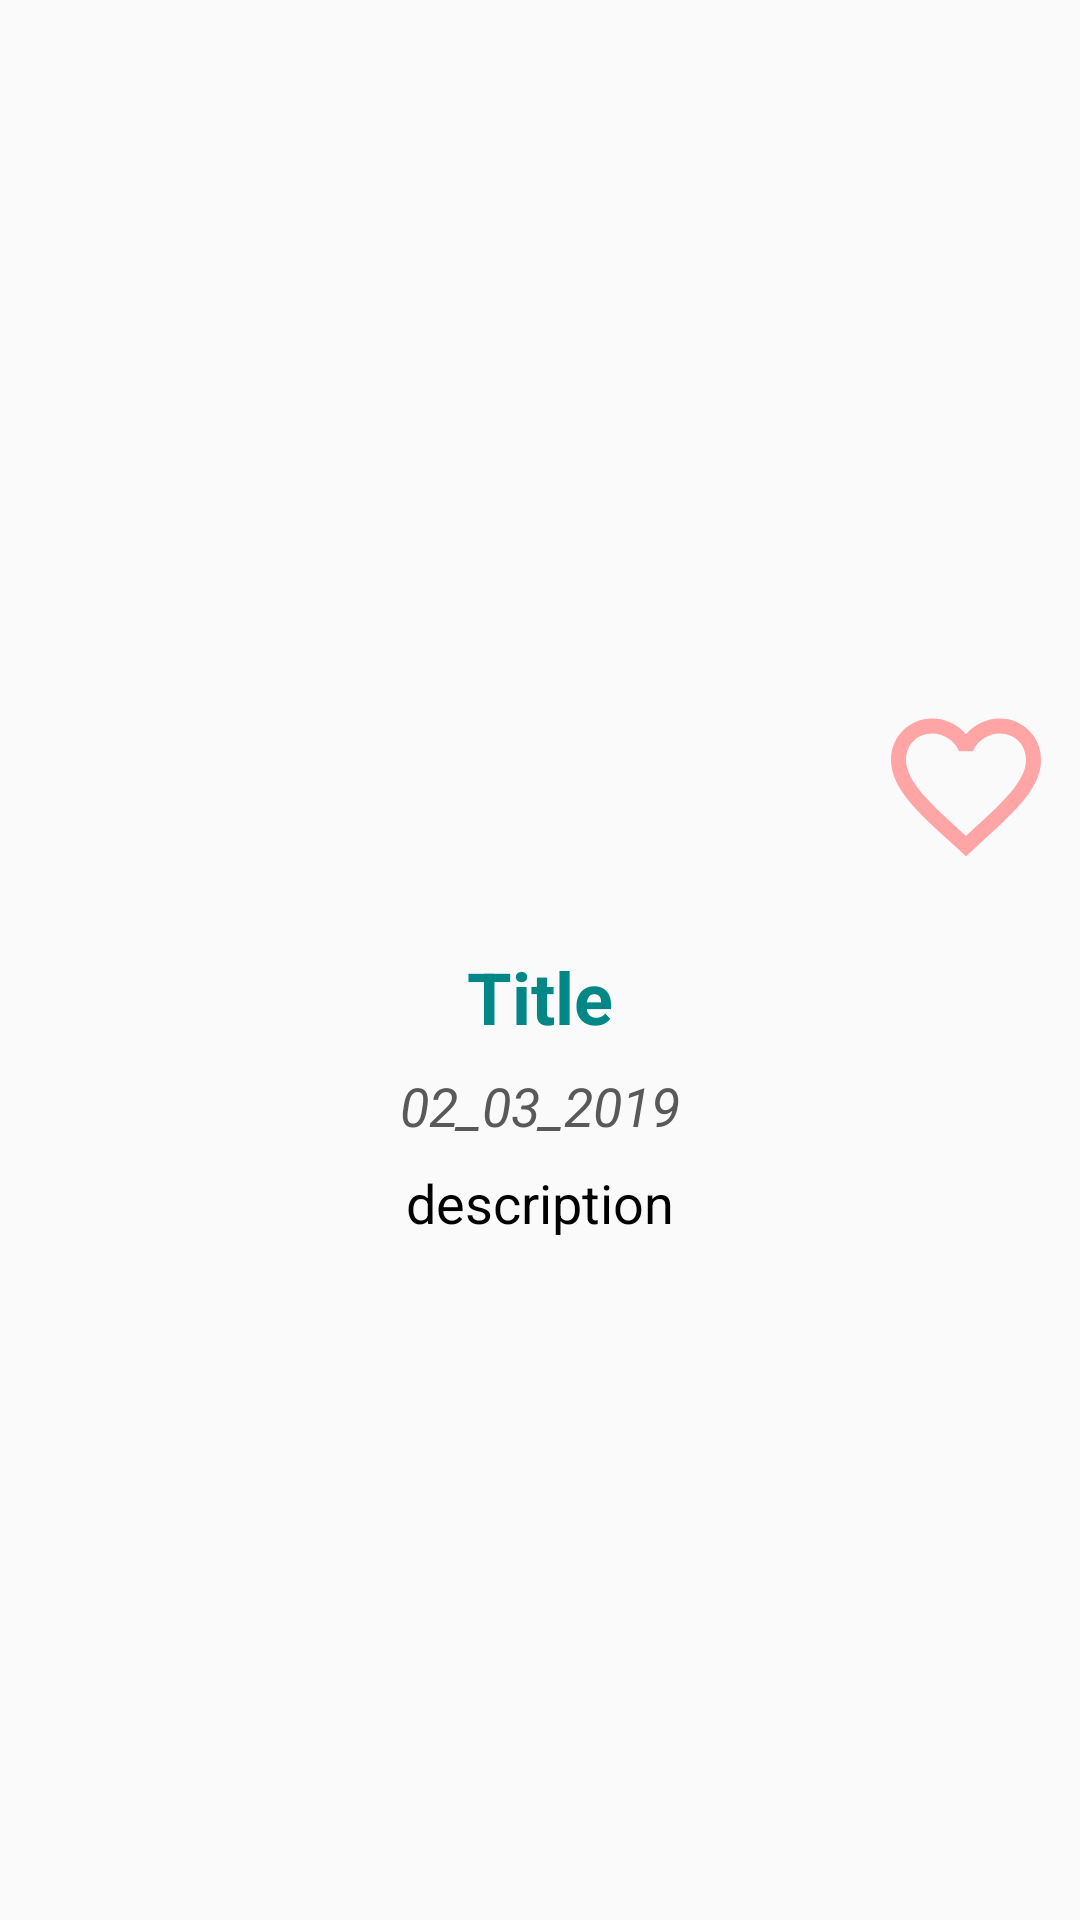

Icons on this 1080 x 1920 Android screen, each with its box as rect(x1, y1, x2, y2):
favorite border: rect(891, 718, 1041, 856)
